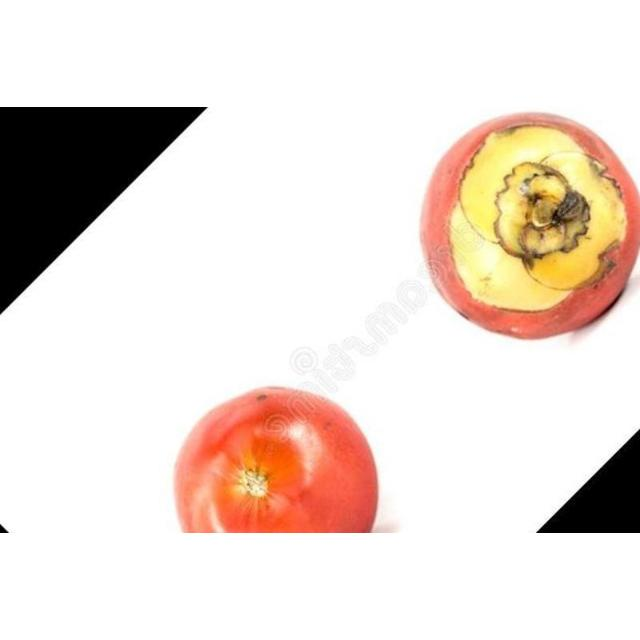good: (419, 113, 639, 341), (172, 387, 380, 533)
